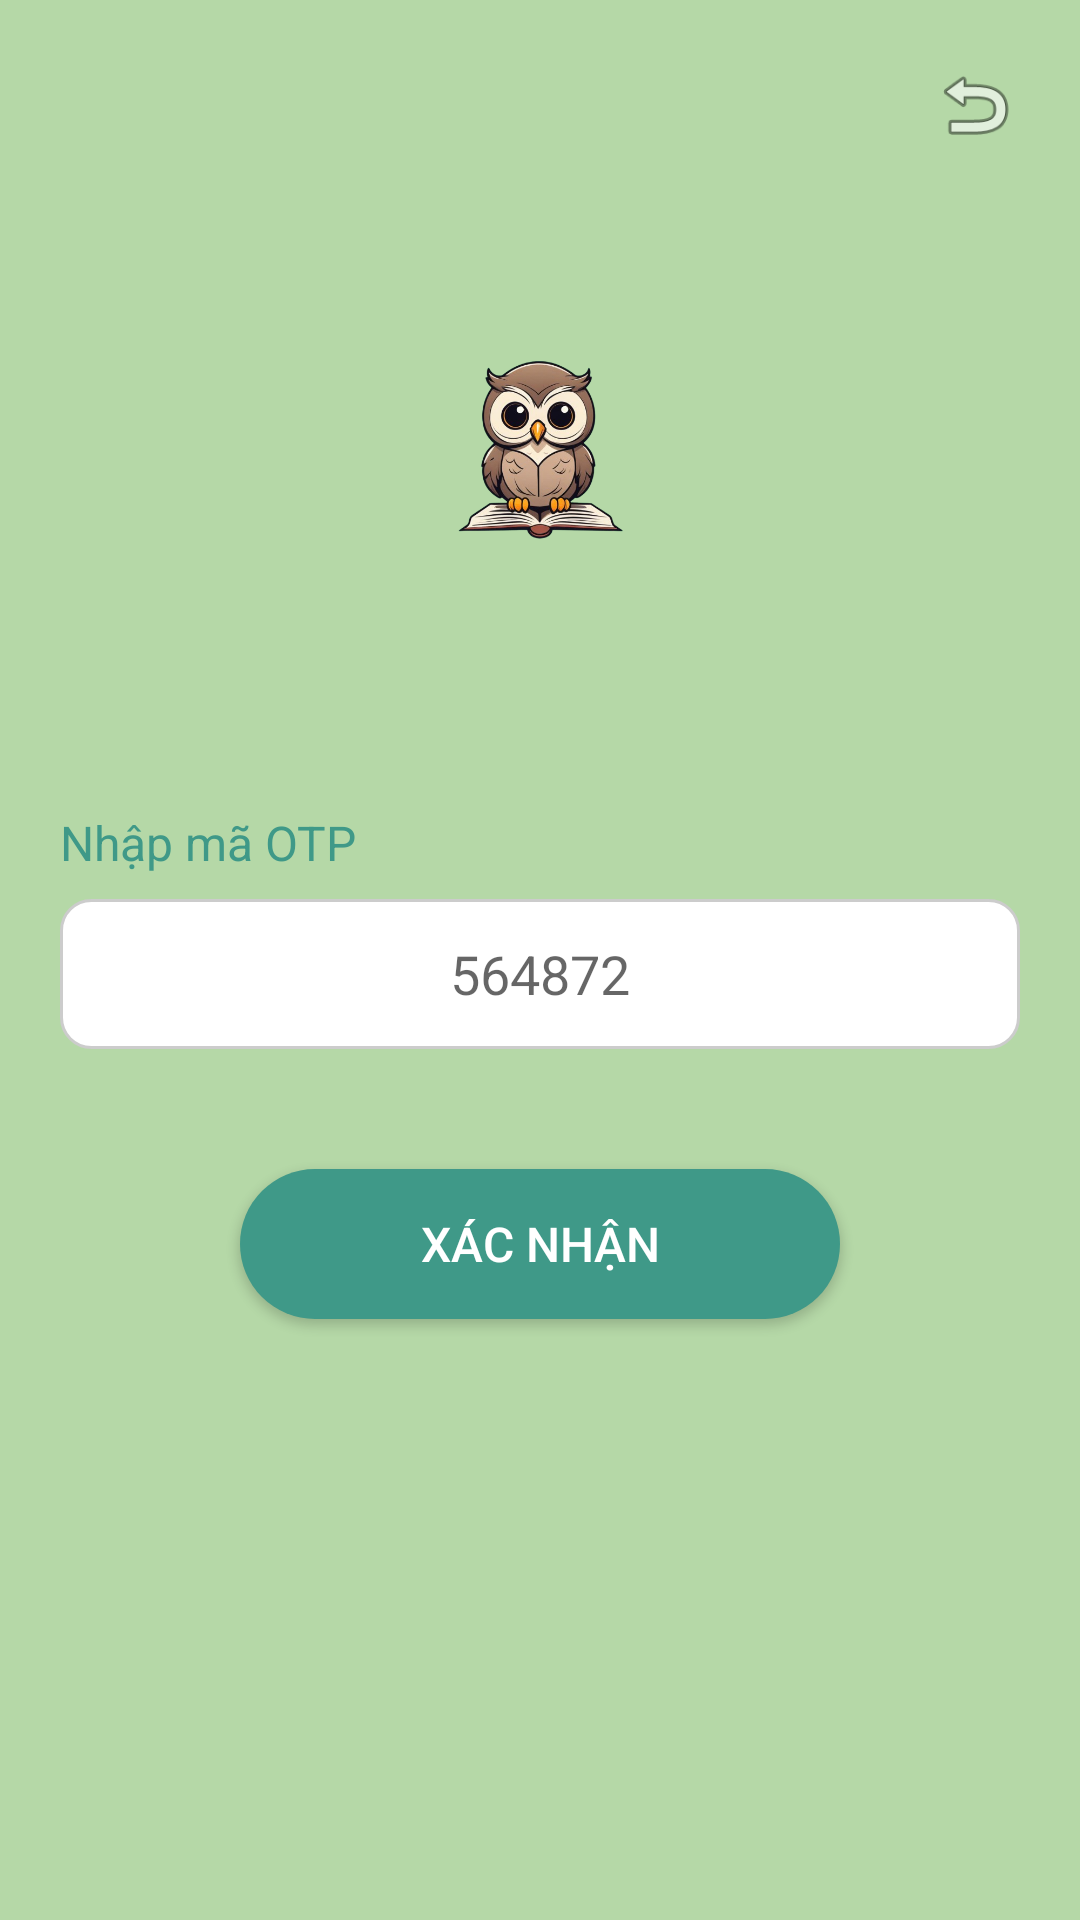

Icons on this 1080x1920 Android screen, each with the point to tap as [x,y]:
revert: [976,105]
